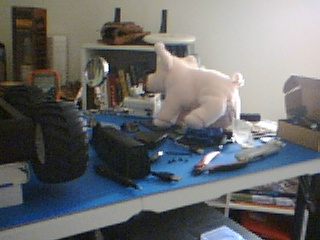piggy: (146, 41, 245, 131)
